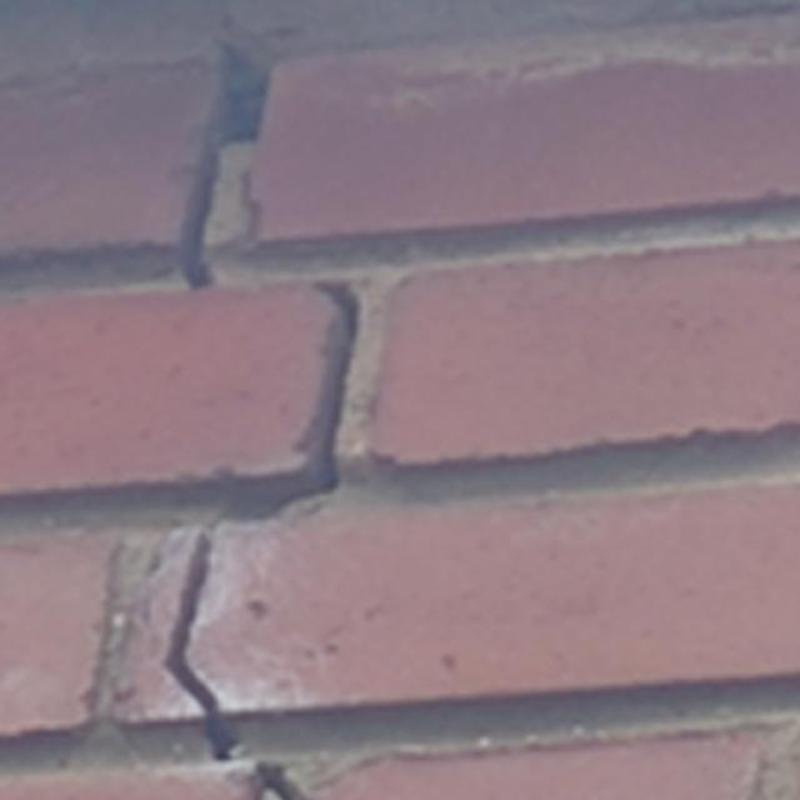crack: (164, 286, 358, 760), (180, 45, 269, 287), (256, 761, 308, 799)
